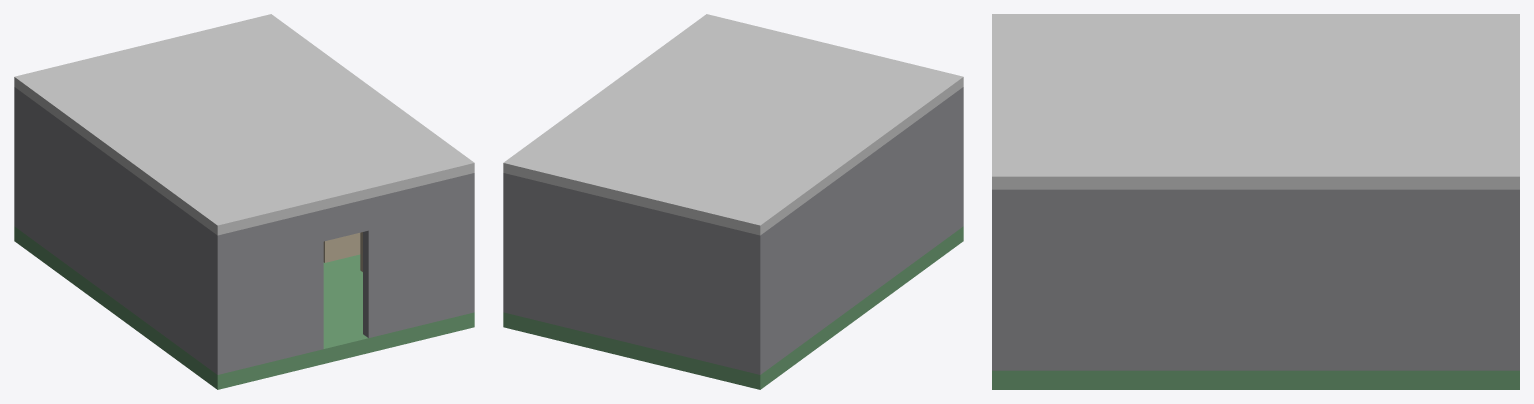
File: green_room.glb
3 renders of one model, left to right at view 1: azimuth 30°, elevation 25°; view 2: azimuth 150°, elevation 25°; view 3: azimuth 270°, elevation 25°, orthographic. The views are drawn at different scales.
Visible parts, largest first — view 1: Room_Ceiling, Room_Wall_W_1, Room_Wall_S_1, Room_Wall_S_3, Room_Floor, Room_Wall_S_2, Armchair, Room_Wall_N_1; view 2: Room_Ceiling, Room_Wall_N_1, Room_Wall_W_1, Room_Floor, Room_Wall_S_1; view 3: Room_Ceiling, Room_Wall_E_1, Room_Floor, Room_Wall_N_1, Room_Wall_S_3.
Part boxes in pixels (left/top/right/bottom): Room_Ceiling: left=14, top=14, right=474, bottom=235; Room_Wall_W_1: left=19, top=91, right=211, bottom=370; Room_Wall_S_1: left=212, top=209, right=323, bottom=374; Room_Wall_S_3: left=363, top=173, right=474, bottom=338; Room_Floor: left=14, top=226, right=474, bottom=389; Room_Wall_S_2: left=323, top=199, right=368, bottom=241; Armchair: left=323, top=233, right=360, bottom=262; Room_Wall_N_1: left=14, top=87, right=19, bottom=229; Room_Ceiling: left=503, top=14, right=963, bottom=235; Room_Wall_N_1: left=503, top=173, right=765, bottom=374; Room_Wall_W_1: left=766, top=91, right=958, bottom=370; Room_Floor: left=503, top=226, right=963, bottom=389; Room_Wall_S_1: left=958, top=87, right=963, bottom=229; Room_Ceiling: left=992, top=14, right=1519, bottom=189; Room_Wall_E_1: left=1006, top=189, right=1505, bottom=370; Room_Floor: left=992, top=370, right=1519, bottom=389; Room_Wall_N_1: left=1505, top=189, right=1519, bottom=370; Room_Wall_S_3: left=992, top=189, right=1006, bottom=370.
Size of the model in its own units: 5.4 by 3.3 by 7.4.
